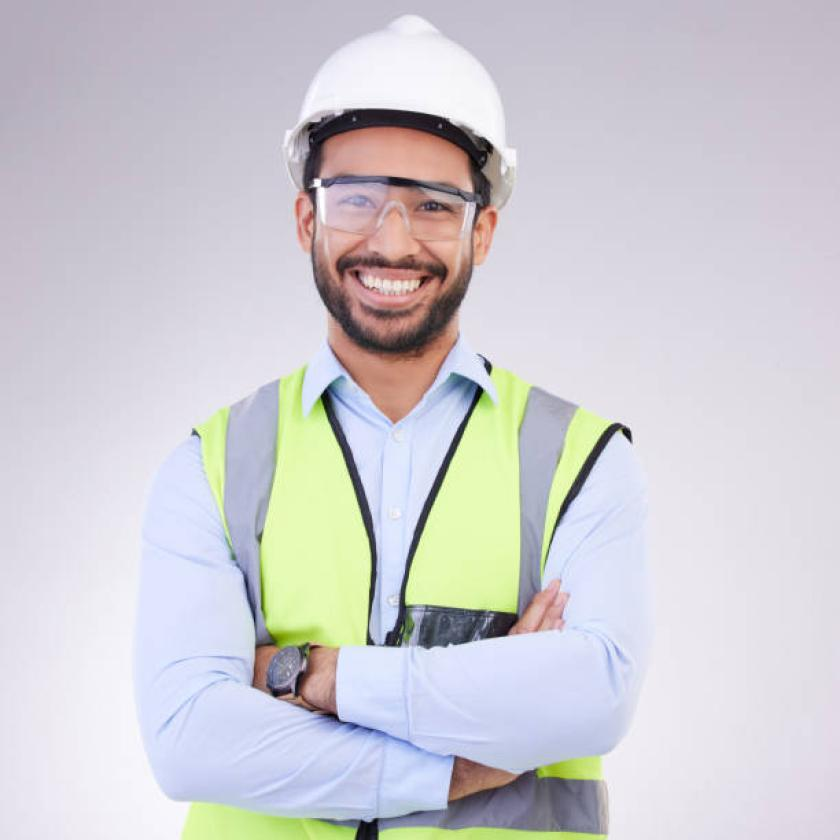Con_casco: (276, 15, 520, 391)
